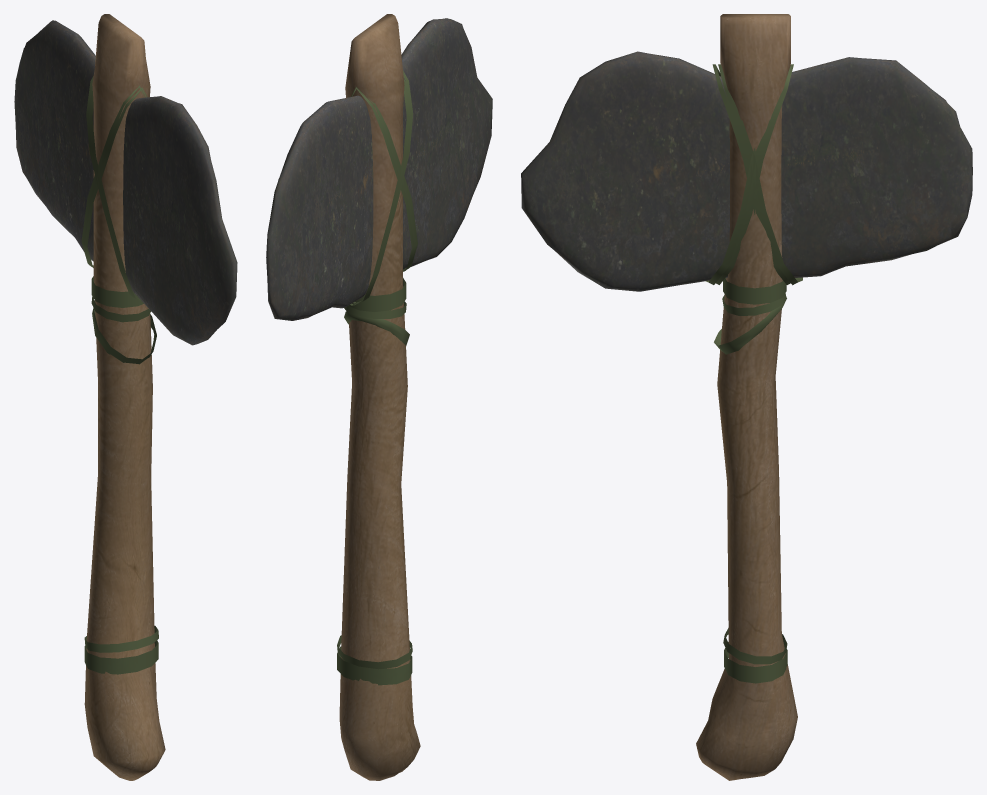
The model's file is MayanAxe.fbx.
3 renders of one model, left to right at view 1: azimuth 30°, elevation 25°; view 2: azimuth 150°, elevation 25°; view 3: azimuth 270°, elevation 25°, orthographic. The views are drawn at different scales.
Parts seen in each view (by area): view 1: MayanAxe_Cabo; view 2: MayanAxe_Cabo; view 3: MayanAxe_Cabo.
Part boxes in pixels (x1,y1,x2,y2): MayanAxe_Cabo: (14, 14, 237, 780); MayanAxe_Cabo: (266, 14, 492, 780); MayanAxe_Cabo: (521, 14, 972, 780).
Size of the model in its own units: 5.71 by 60.06 by 32.2.
